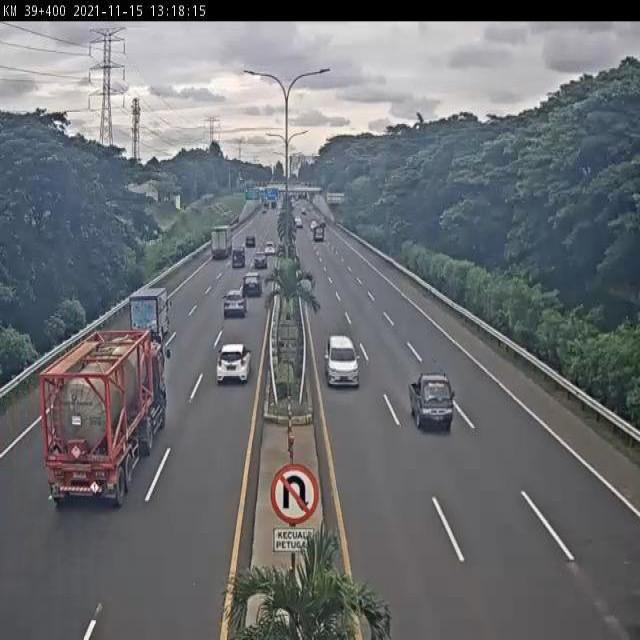car: (324, 332, 360, 389), (214, 340, 253, 388), (222, 287, 247, 317), (241, 269, 264, 299)
truck-s-: (406, 368, 455, 437), (126, 284, 171, 341)
truck-xl-: (45, 325, 168, 511)
